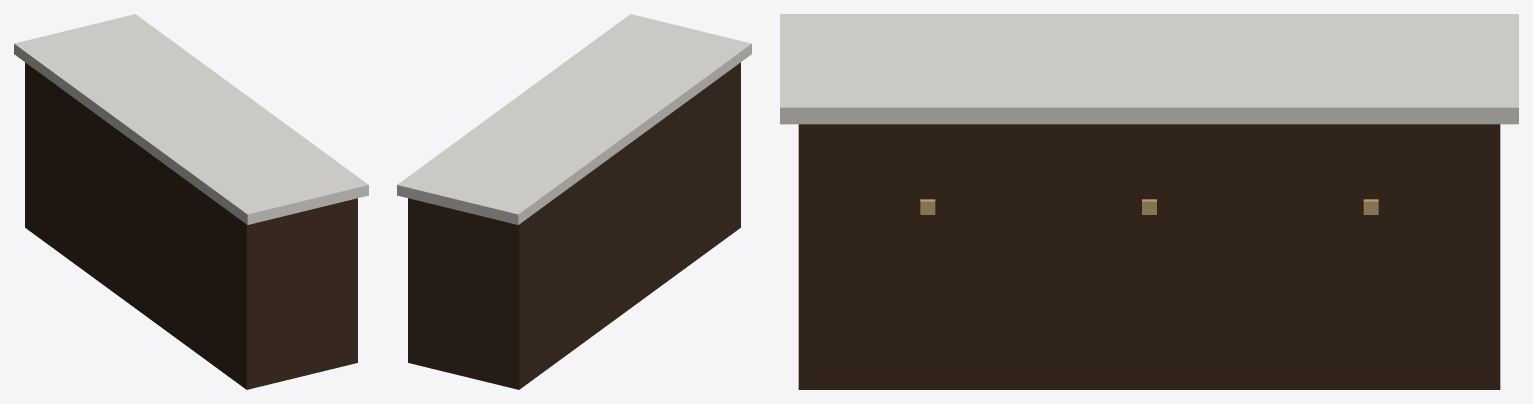
The model's file is SM_Mob_Konsol.fbx.
3 views of the same model, side by side, from view 1: azimuth 30°, elevation 25°; view 2: azimuth 150°, elevation 25°; view 3: azimuth 270°, elevation 25° (orthographic). The views are drawn at different scales.
Visible parts, largest first — view 1: Mob_Konsol; view 2: Mob_Konsol; view 3: Mob_Konsol.
Boxes of the visible parts, x1,y1,x2,y2 form: Mob_Konsol: [14, 14, 368, 389]; Mob_Konsol: [397, 14, 751, 389]; Mob_Konsol: [780, 14, 1518, 389].
Bounding box in the file's own units: 60 × 85.5 × 200.
